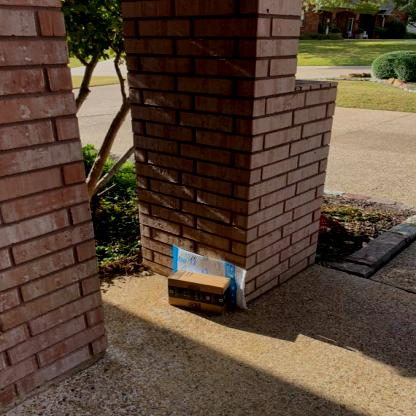box: (165, 272, 235, 316)
plastic_bag: (172, 243, 251, 313)
